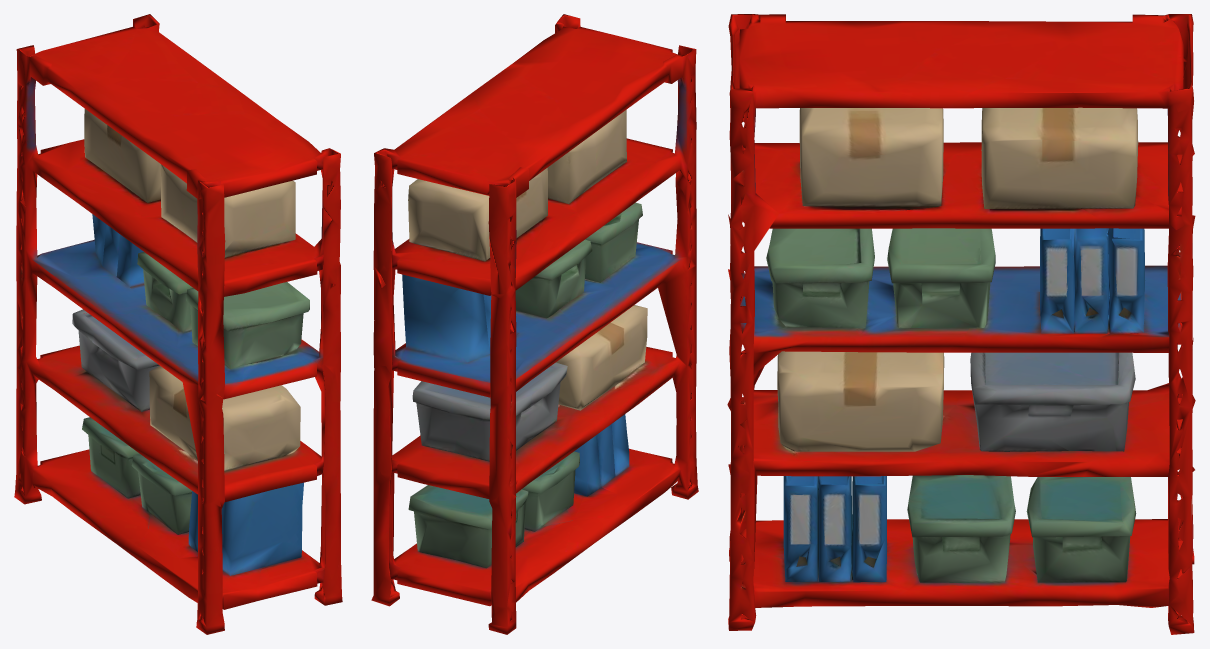
Rendered from shelving.glb.
3 renders of one model, left to right at view 1: azimuth 30°, elevation 25°; view 2: azimuth 150°, elevation 25°; view 3: azimuth 270°, elevation 25°, orthographic. The views are drawn at different scales.
Visible parts, largest first — view 1: tripo_node_cbbda5a6-1198-4592-a2de-13265753274b; view 2: tripo_node_cbbda5a6-1198-4592-a2de-13265753274b; view 3: tripo_node_cbbda5a6-1198-4592-a2de-13265753274b.
Boxes of the visible parts, x1,y1,x2,y2 form: tripo_node_cbbda5a6-1198-4592-a2de-13265753274b: (14, 14, 342, 634); tripo_node_cbbda5a6-1198-4592-a2de-13265753274b: (371, 14, 698, 634); tripo_node_cbbda5a6-1198-4592-a2de-13265753274b: (727, 14, 1195, 634).
Size of the model in its own units: 0.3215 by 1 by 0.7778.
Materials: 1 (1 with a texture image).
